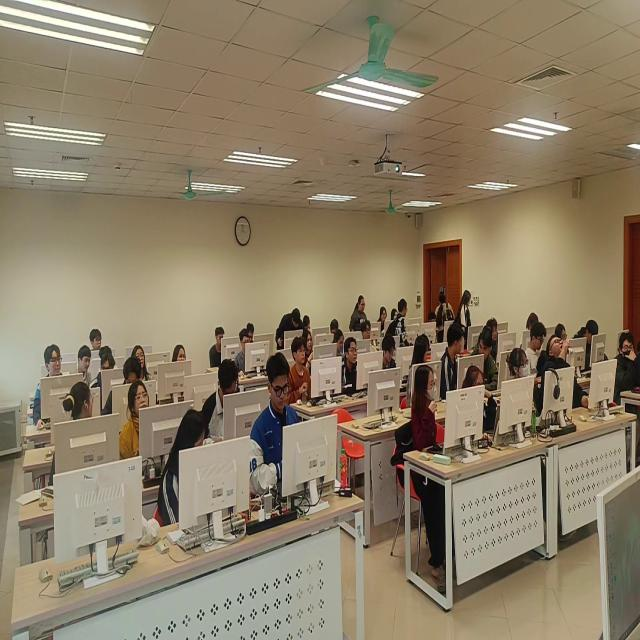raise_head: (409, 366, 450, 491), (540, 336, 596, 420), (119, 383, 163, 471), (33, 343, 71, 434), (506, 346, 542, 423), (613, 330, 640, 417), (286, 339, 318, 410), (336, 339, 369, 403), (171, 344, 194, 380), (132, 346, 151, 379), (360, 322, 378, 356), (89, 326, 107, 356), (304, 330, 321, 357)
stand: (384, 297, 410, 358), (275, 306, 302, 360), (434, 284, 454, 350), (350, 294, 366, 345)
using_computer: (249, 355, 319, 509), (201, 361, 249, 449), (458, 365, 503, 451), (570, 320, 609, 380), (234, 330, 265, 383), (377, 337, 403, 399), (93, 357, 122, 403), (209, 327, 231, 371), (331, 330, 349, 363), (376, 302, 391, 340)
